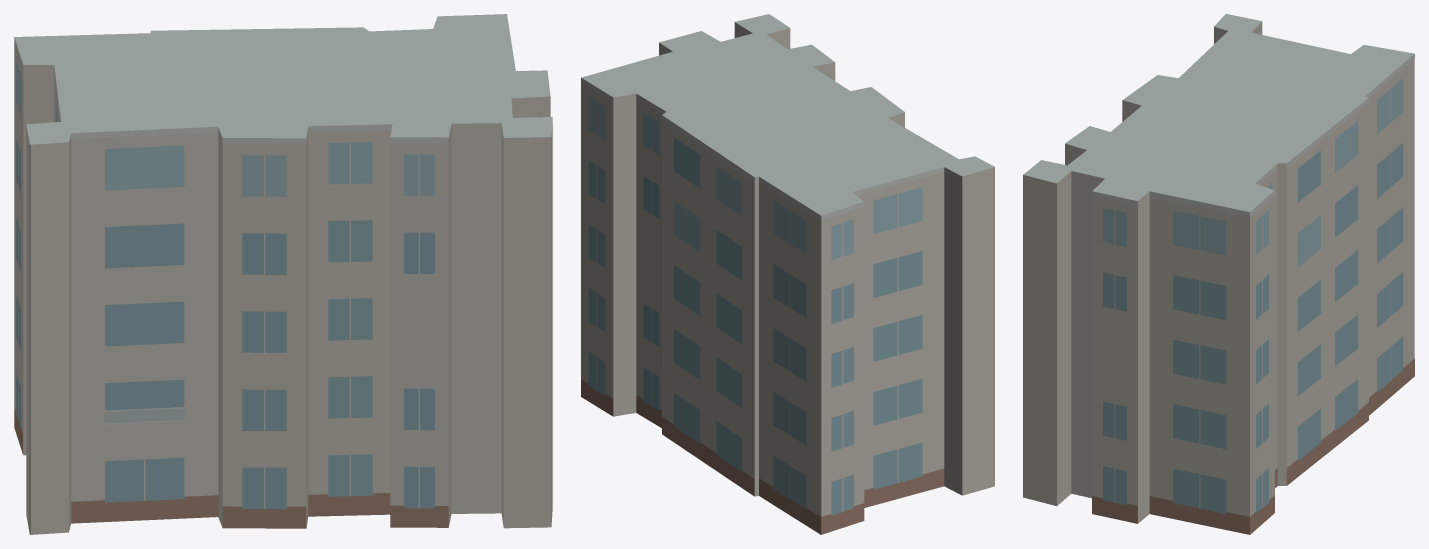
Rendered from survey-upis-32955395.glb.
3 renders of one model, left to right at view 1: azimuth 30°, elevation 25°; view 2: azimuth 150°, elevation 25°; view 3: azimuth 270°, elevation 25°, orthographic. The views are drawn at different scales.
Visible parts, largest first — view 1: survey-upis-32955395.tmp; view 2: survey-upis-32955395.tmp; view 3: survey-upis-32955395.tmp.
Part boxes in pixels (box(x1,y1,x2,y2)): survey-upis-32955395.tmp: box(14, 14, 552, 534); survey-upis-32955395.tmp: box(581, 14, 994, 534); survey-upis-32955395.tmp: box(1023, 14, 1414, 534).
Size of the model in its own units: 20.75 by 15.75 by 17.33.
